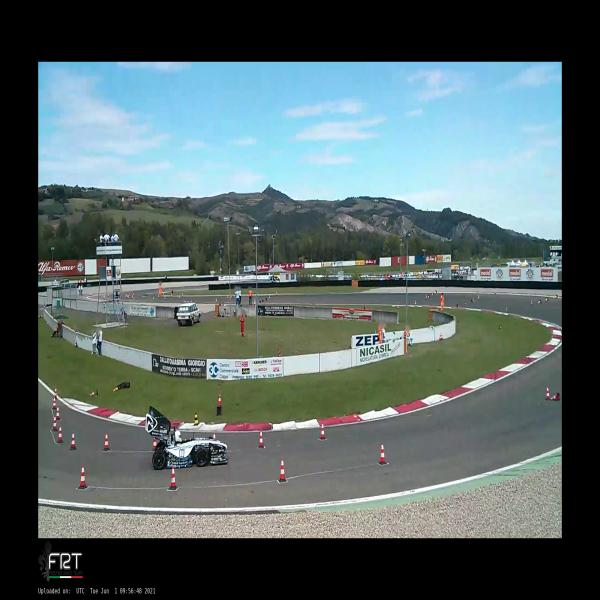large_orange_cone: (77, 464, 87, 489), (168, 466, 178, 490), (278, 457, 287, 482), (378, 442, 387, 465), (102, 432, 110, 450), (69, 431, 76, 450), (318, 423, 326, 439), (57, 425, 64, 443), (258, 430, 264, 449), (51, 416, 58, 432), (550, 393, 561, 401), (217, 391, 222, 407), (545, 386, 550, 401), (52, 396, 57, 410), (152, 438, 156, 451), (57, 406, 60, 420), (54, 388, 57, 400), (212, 433, 216, 439)
unknown_cone: (193, 408, 200, 426)
